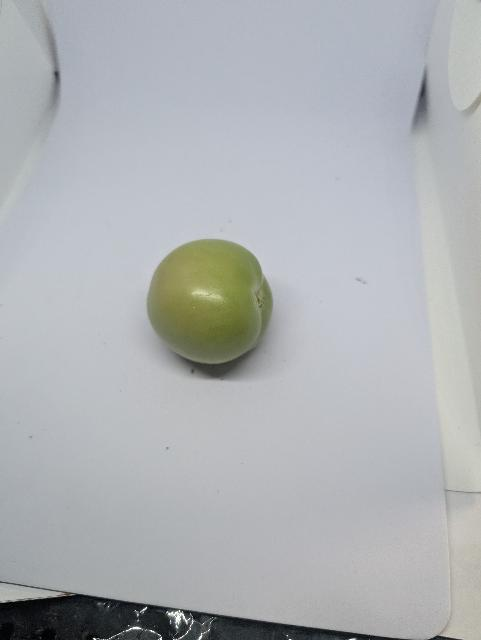green: (145, 236, 277, 368)
